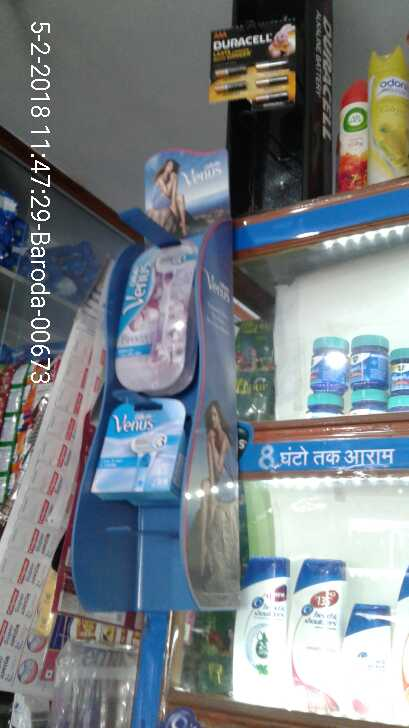beauty: (116, 244, 200, 397), (288, 555, 346, 713), (95, 400, 183, 502), (235, 555, 292, 704), (342, 613, 392, 720)
pharmacy: (347, 332, 390, 388), (307, 336, 347, 396), (387, 343, 409, 392)
